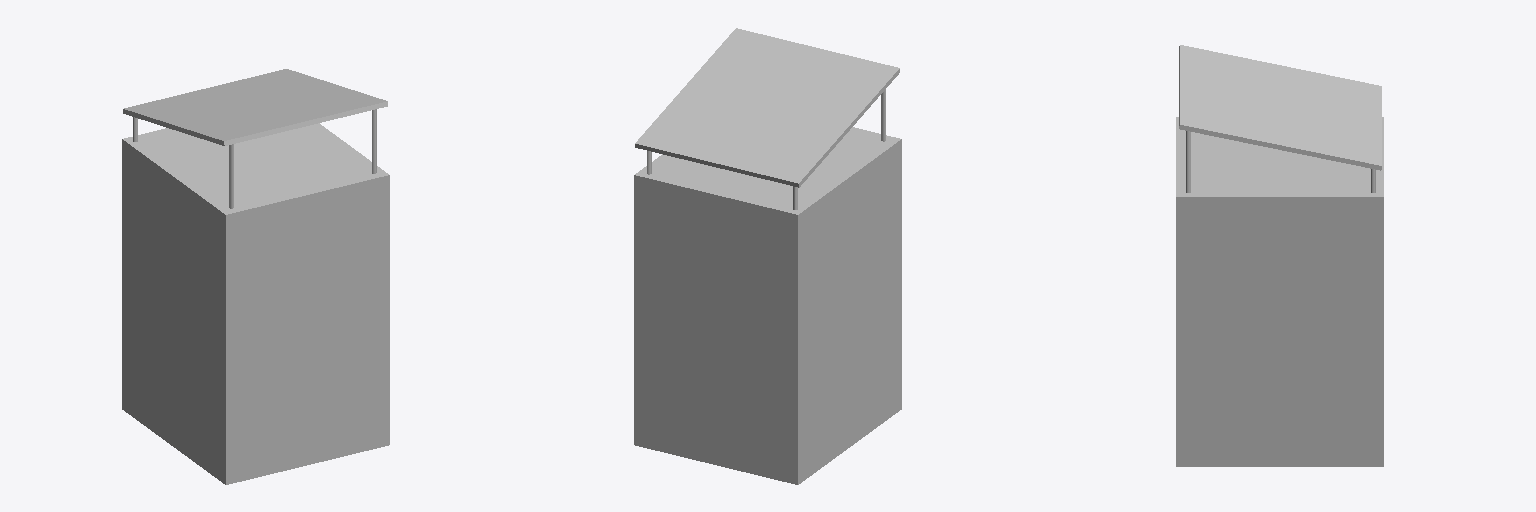
The model's file is bin.obj.
3 renders of one model, left to right at view 1: azimuth 30°, elevation 25°; view 2: azimuth 150°, elevation 25°; view 3: azimuth 270°, elevation 25°, orthographic.
Visible parts, largest first — view 1: Base_Bin; view 2: Base_Bin; view 3: Base_Bin.
Boxes of the visible parts, x1,y1,x2,y2 form: Base_Bin: [122, 69, 389, 484]; Base_Bin: [634, 28, 901, 484]; Base_Bin: [1176, 45, 1383, 466].
Bounding box in the file's own units: 28.74 × 57.39 × 31.5.